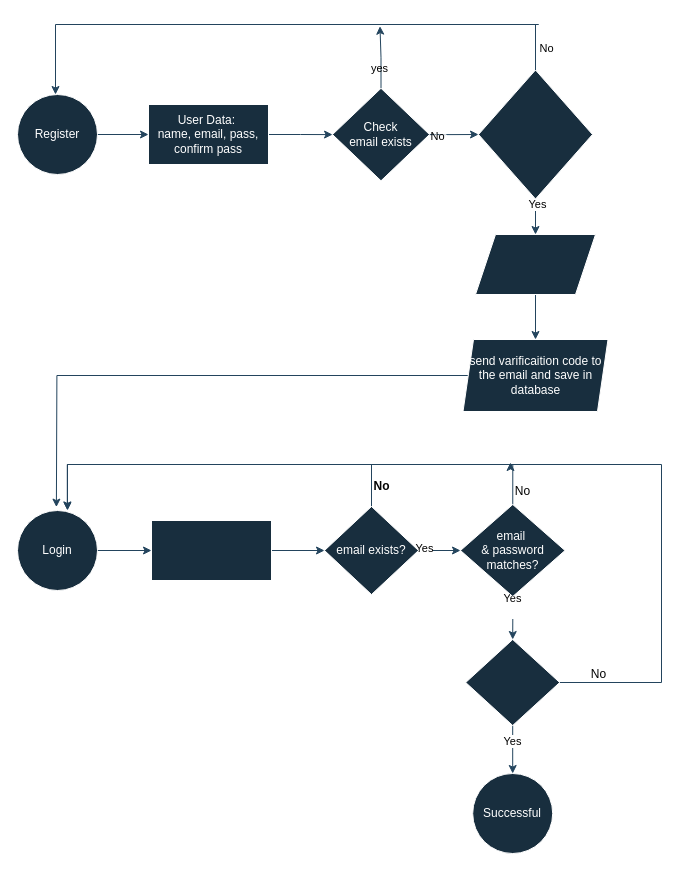
The diagram is 687 pixels wide and 871 high, and some of its shapes have lost their labels. The box of each missing label's shape, as (x1, y1, x2, y2) in pixels:
check pass == confirm pass: (478, 69, 592, 199)
email varified?: (465, 638, 560, 726)
Email, pass: (150, 520, 272, 580)
hash password: (474, 234, 596, 294)
